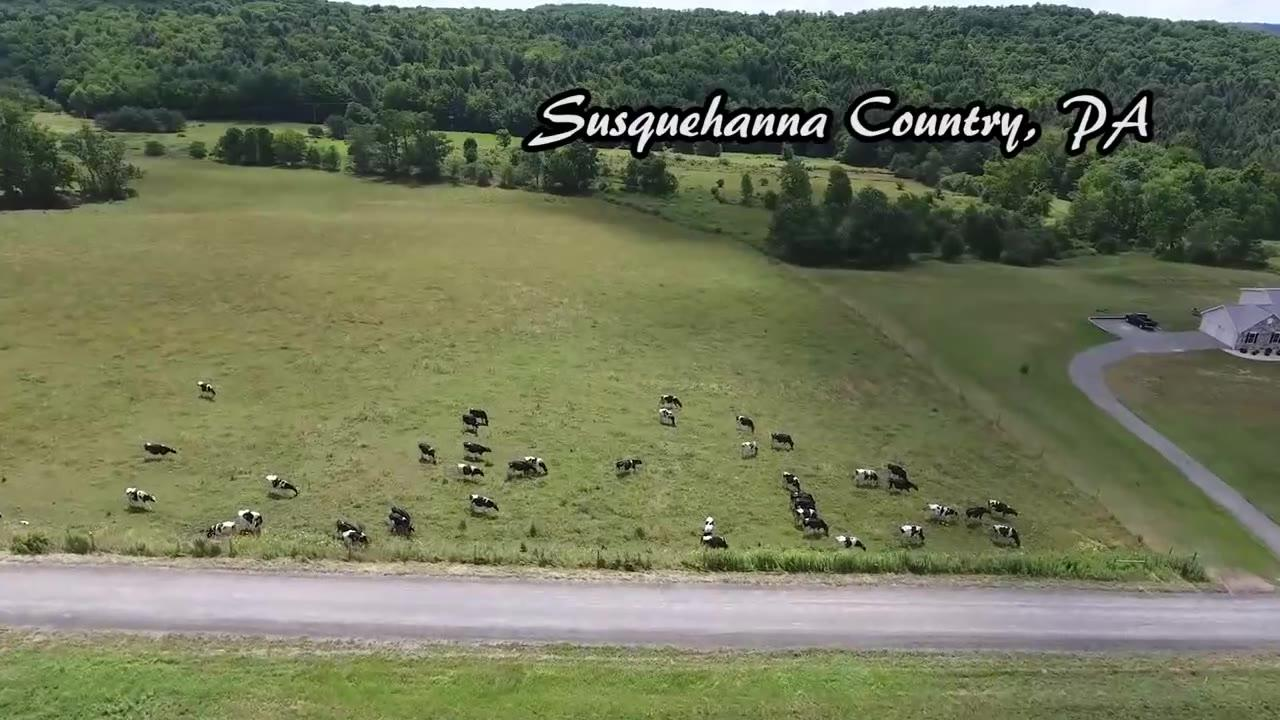cow: (124, 486, 159, 515), (264, 472, 299, 500), (142, 439, 179, 464), (988, 524, 1024, 549), (337, 520, 369, 548), (986, 497, 1022, 521), (897, 522, 926, 548), (507, 460, 541, 482), (696, 515, 720, 546), (237, 508, 264, 535), (468, 492, 501, 514), (850, 467, 881, 490), (887, 476, 920, 497), (926, 503, 957, 525), (463, 438, 492, 461), (802, 516, 831, 539), (206, 519, 237, 540), (834, 534, 868, 553), (456, 461, 485, 483), (767, 430, 796, 452), (614, 455, 643, 475), (388, 501, 413, 524), (521, 454, 549, 474), (791, 507, 819, 527), (388, 513, 412, 536), (416, 441, 440, 464), (781, 468, 804, 492), (699, 534, 731, 550), (657, 393, 684, 411), (735, 413, 757, 435), (469, 405, 490, 428), (886, 460, 910, 480), (965, 505, 991, 523), (657, 408, 679, 428), (196, 379, 218, 398), (460, 411, 479, 433), (740, 440, 760, 460), (790, 496, 817, 509)
